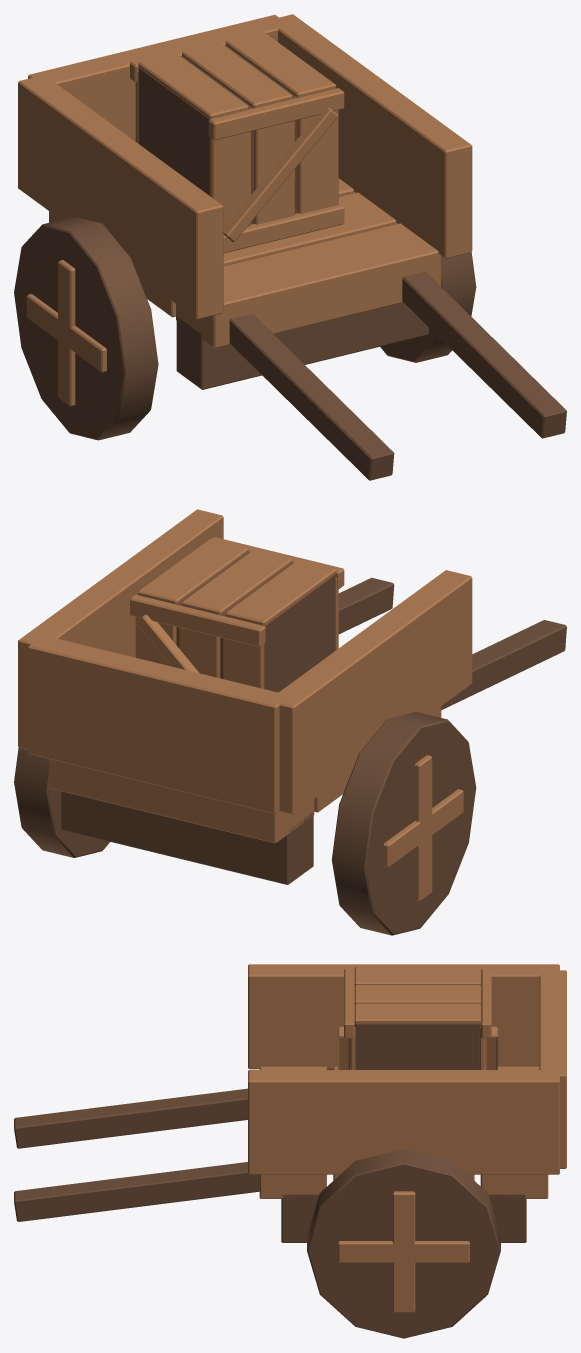
The model's file is wood_cart_small_01.glb.
3 views of the same model, one above another, from view 1: azimuth 30°, elevation 25°; view 2: azimuth 150°, elevation 25°; view 3: azimuth 270°, elevation 25° (orthographic). The views are drawn at different scales.
Visible parts, largest first — view 1: wood_cart_small_01; view 2: wood_cart_small_01; view 3: wood_cart_small_01.
Boxes of the visible parts, x1,y1,x2,y2 form: wood_cart_small_01: [14, 14, 566, 480]; wood_cart_small_01: [14, 509, 566, 935]; wood_cart_small_01: [14, 964, 566, 1338].
Size of the model in its own units: 1.05 by 0.8638 by 1.59.
